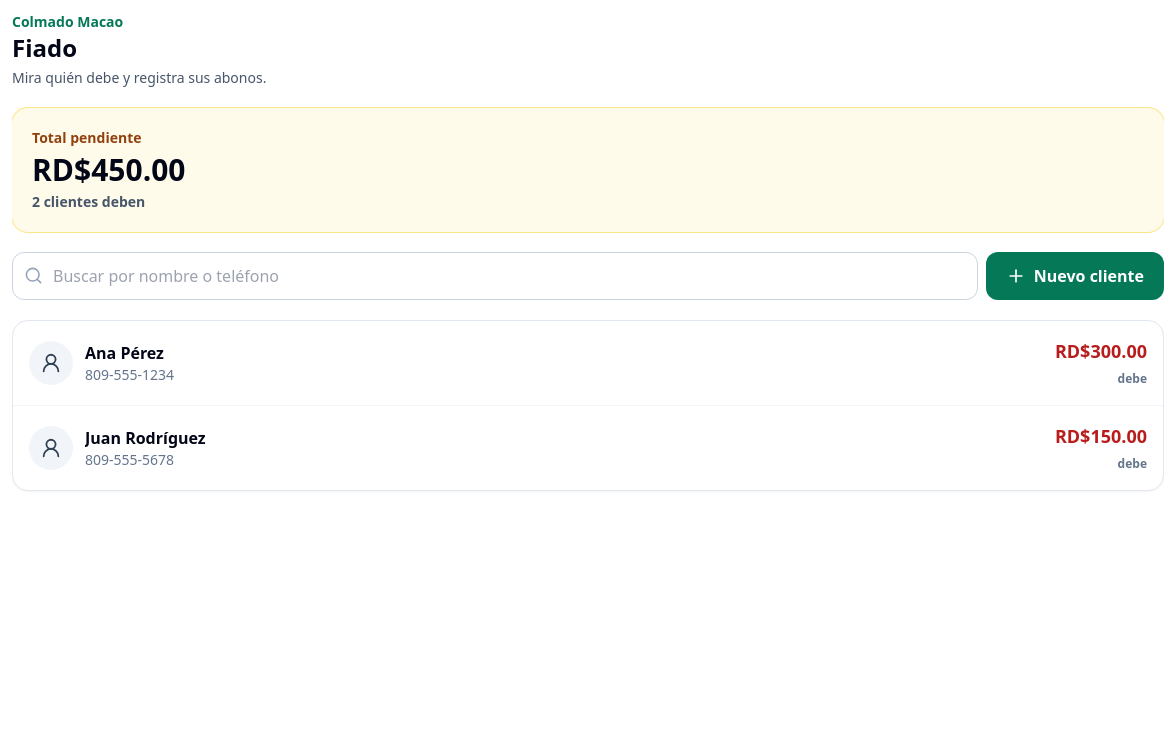
CreditPanel › records an installment and updates the displayed balance
Click the button "Ana Pérez 809-555-1234 RD$300.00 debe" at (51, 363), box [13,321,1163,405]
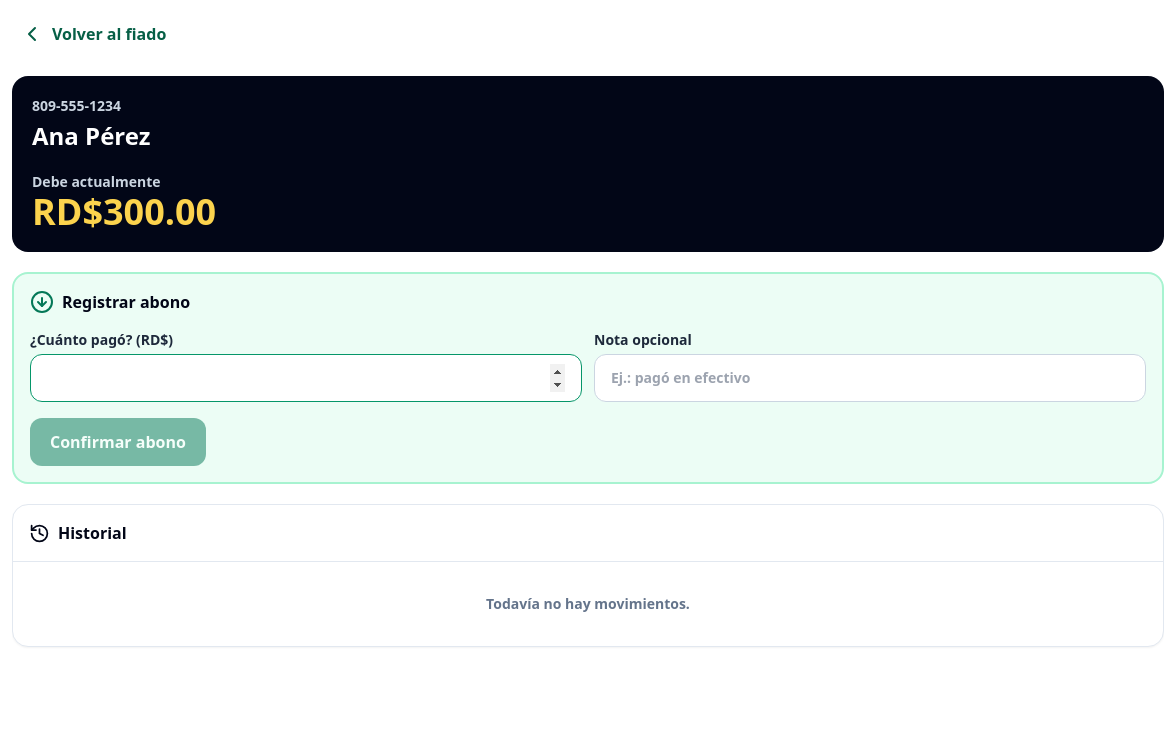
Type "100" into the number field labelled "¿Cuánto pagó? (RD$)" at (306, 378), box [30,354,582,402]
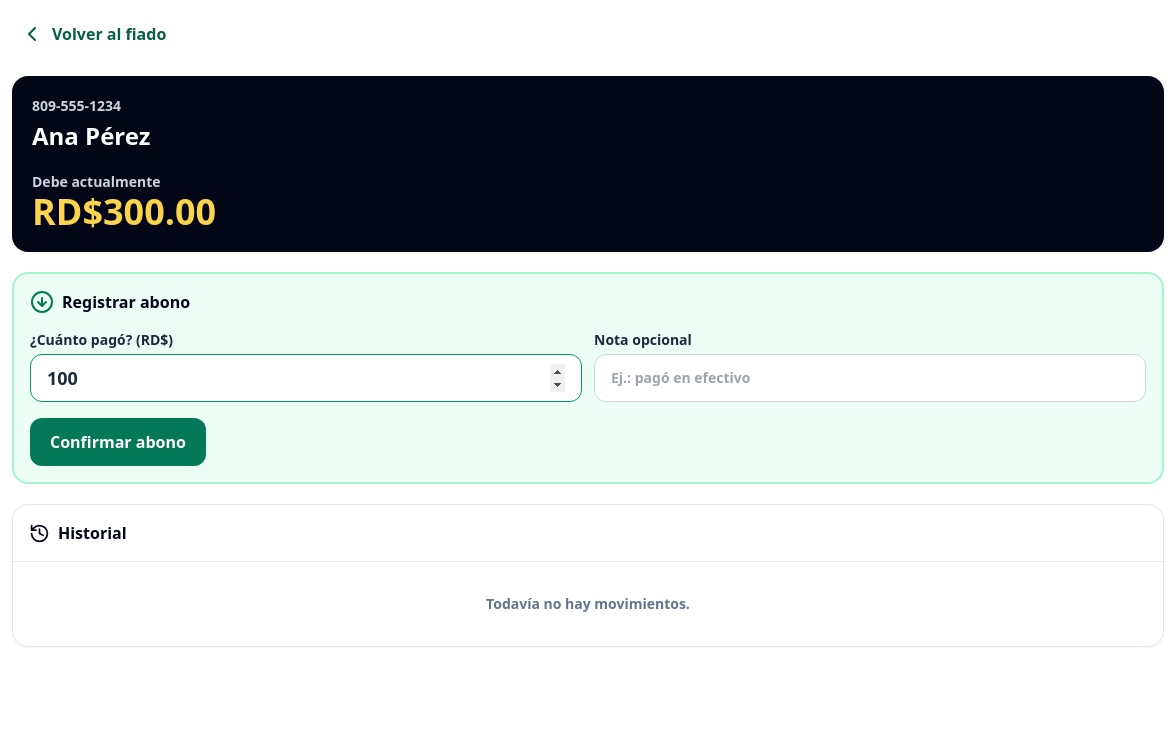
Type "Pagó en efectivo" into the field labelled "Nota opcional" at (870, 378), box [594,354,1146,402]
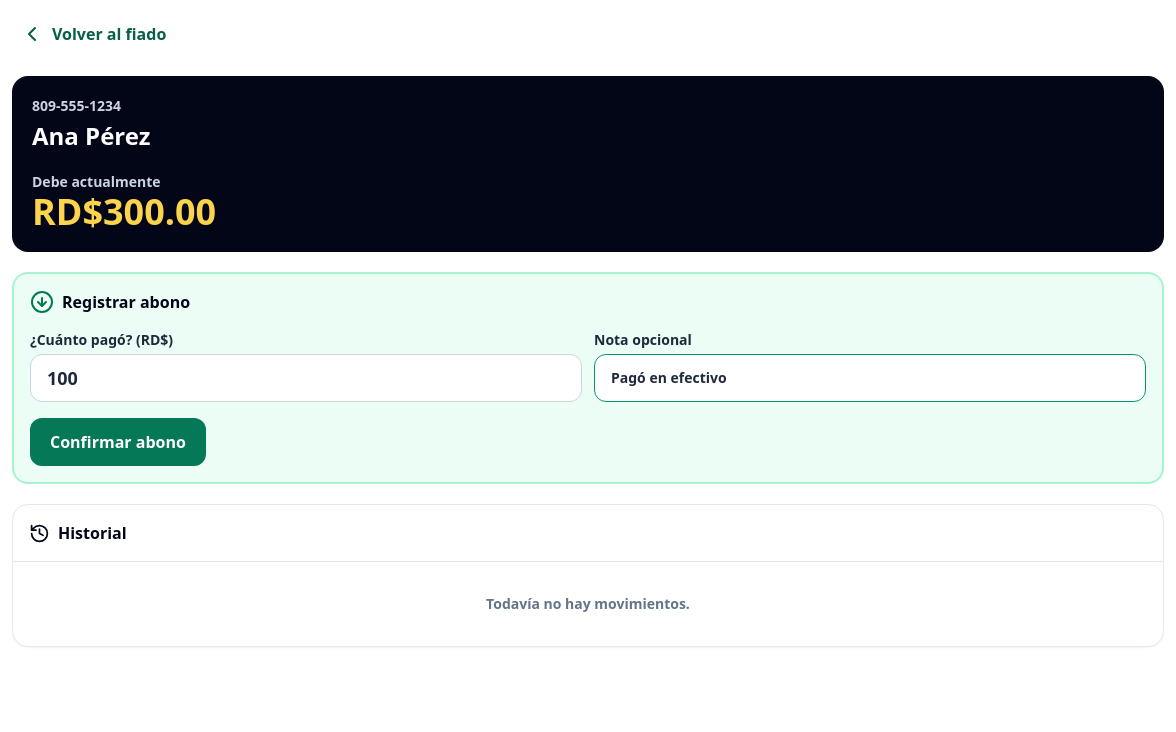
Click the button "Confirmar abono" at (118, 442), box [30,418,206,466]
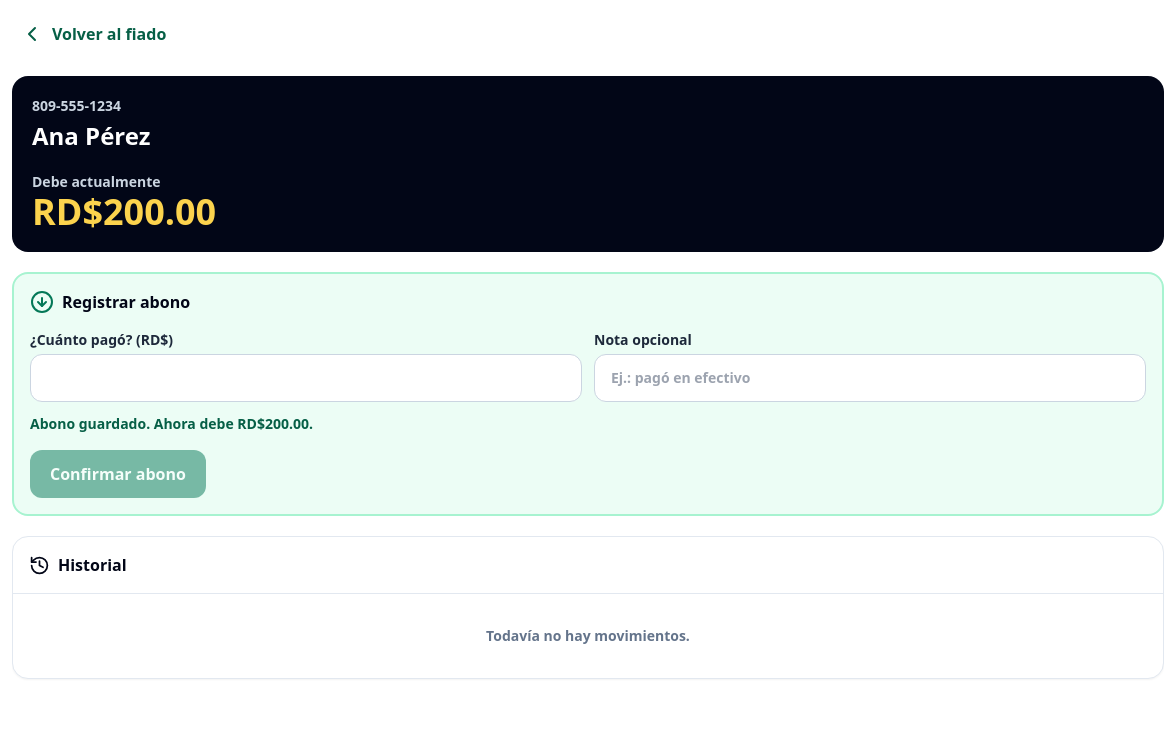
Now the message shows "Abono guardado", box [30,414,313,433]
